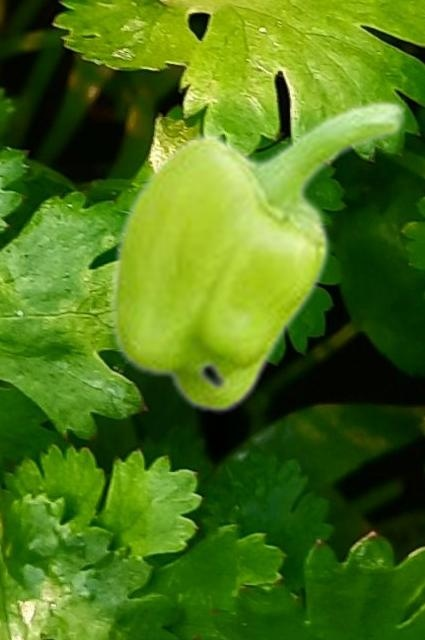bell_pepper: (108, 98, 407, 413)
